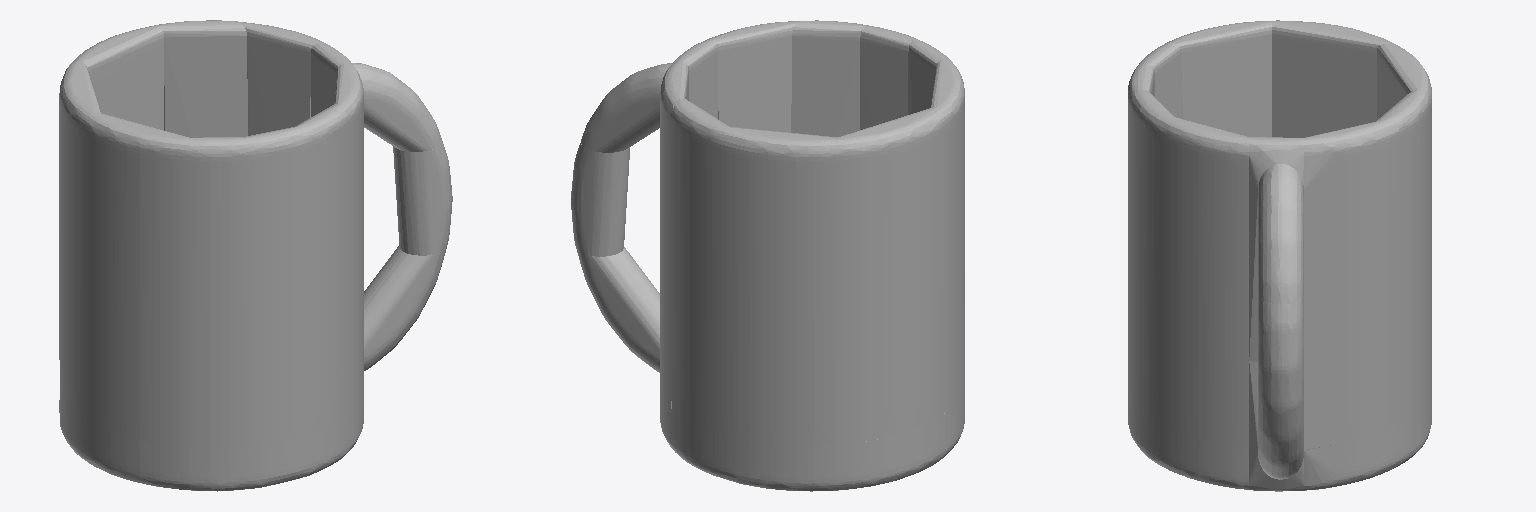
URDF robot description (root):
<robot name="root">
  <link name="object">
    <visual>
      <origin xyz="0 0 0" rpy="0 0 0"/>
      <geometry>
        <mesh filename="coacd_convex_piece_0.obj" scale="1.0000E+00 1.0000E+00 1.0000E+00"/>
      </geometry>
      <material name="">
        <color rgba="7.50E-01 7.50E-01 7.50E-01 1"/>
      </material>
    </visual>
    <collision>
      <origin xyz="0 0 0" rpy="0 0 0"/>
      <geometry>
        <mesh filename="coacd_convex_piece_0.obj" scale="1.0000E+00 1.0000E+00 1.0000E+00"/>
      </geometry>
    </collision>
    <visual>
      <origin xyz="0 0 0" rpy="0 0 0"/>
      <geometry>
        <mesh filename="coacd_convex_piece_1.obj" scale="1.0000E+00 1.0000E+00 1.0000E+00"/>
      </geometry>
      <material name="">
        <color rgba="7.50E-01 7.50E-01 7.50E-01 1"/>
      </material>
    </visual>
    <collision>
      <origin xyz="0 0 0" rpy="0 0 0"/>
      <geometry>
        <mesh filename="coacd_convex_piece_1.obj" scale="1.0000E+00 1.0000E+00 1.0000E+00"/>
      </geometry>
    </collision>
    <visual>
      <origin xyz="0 0 0" rpy="0 0 0"/>
      <geometry>
        <mesh filename="coacd_convex_piece_2.obj" scale="1.0000E+00 1.0000E+00 1.0000E+00"/>
      </geometry>
      <material name="">
        <color rgba="7.50E-01 7.50E-01 7.50E-01 1"/>
      </material>
    </visual>
    <collision>
      <origin xyz="0 0 0" rpy="0 0 0"/>
      <geometry>
        <mesh filename="coacd_convex_piece_2.obj" scale="1.0000E+00 1.0000E+00 1.0000E+00"/>
      </geometry>
    </collision>
    <visual>
      <origin xyz="0 0 0" rpy="0 0 0"/>
      <geometry>
        <mesh filename="coacd_convex_piece_3.obj" scale="1.0000E+00 1.0000E+00 1.0000E+00"/>
      </geometry>
      <material name="">
        <color rgba="7.50E-01 7.50E-01 7.50E-01 1"/>
      </material>
    </visual>
    <collision>
      <origin xyz="0 0 0" rpy="0 0 0"/>
      <geometry>
        <mesh filename="coacd_convex_piece_3.obj" scale="1.0000E+00 1.0000E+00 1.0000E+00"/>
      </geometry>
    </collision>
    <visual>
      <origin xyz="0 0 0" rpy="0 0 0"/>
      <geometry>
        <mesh filename="coacd_convex_piece_4.obj" scale="1.0000E+00 1.0000E+00 1.0000E+00"/>
      </geometry>
      <material name="">
        <color rgba="7.50E-01 7.50E-01 7.50E-01 1"/>
      </material>
    </visual>
    <collision>
      <origin xyz="0 0 0" rpy="0 0 0"/>
      <geometry>
        <mesh filename="coacd_convex_piece_4.obj" scale="1.0000E+00 1.0000E+00 1.0000E+00"/>
      </geometry>
    </collision>
    <visual>
      <origin xyz="0 0 0" rpy="0 0 0"/>
      <geometry>
        <mesh filename="coacd_convex_piece_5.obj" scale="1.0000E+00 1.0000E+00 1.0000E+00"/>
      </geometry>
      <material name="">
        <color rgba="7.50E-01 7.50E-01 7.50E-01 1"/>
      </material>
    </visual>
    <collision>
      <origin xyz="0 0 0" rpy="0 0 0"/>
      <geometry>
        <mesh filename="coacd_convex_piece_5.obj" scale="1.0000E+00 1.0000E+00 1.0000E+00"/>
      </geometry>
    </collision>
    <visual>
      <origin xyz="0 0 0" rpy="0 0 0"/>
      <geometry>
        <mesh filename="coacd_convex_piece_6.obj" scale="1.0000E+00 1.0000E+00 1.0000E+00"/>
      </geometry>
      <material name="">
        <color rgba="7.50E-01 7.50E-01 7.50E-01 1"/>
      </material>
    </visual>
    <collision>
      <origin xyz="0 0 0" rpy="0 0 0"/>
      <geometry>
        <mesh filename="coacd_convex_piece_6.obj" scale="1.0000E+00 1.0000E+00 1.0000E+00"/>
      </geometry>
    </collision>
    <visual>
      <origin xyz="0 0 0" rpy="0 0 0"/>
      <geometry>
        <mesh filename="coacd_convex_piece_7.obj" scale="1.0000E+00 1.0000E+00 1.0000E+00"/>
      </geometry>
      <material name="">
        <color rgba="7.50E-01 7.50E-01 7.50E-01 1"/>
      </material>
    </visual>
    <collision>
      <origin xyz="0 0 0" rpy="0 0 0"/>
      <geometry>
        <mesh filename="coacd_convex_piece_7.obj" scale="1.0000E+00 1.0000E+00 1.0000E+00"/>
      </geometry>
    </collision>
    <visual>
      <origin xyz="0 0 0" rpy="0 0 0"/>
      <geometry>
        <mesh filename="coacd_convex_piece_8.obj" scale="1.0000E+00 1.0000E+00 1.0000E+00"/>
      </geometry>
      <material name="">
        <color rgba="7.50E-01 7.50E-01 7.50E-01 1"/>
      </material>
    </visual>
    <collision>
      <origin xyz="0 0 0" rpy="0 0 0"/>
      <geometry>
        <mesh filename="coacd_convex_piece_8.obj" scale="1.0000E+00 1.0000E+00 1.0000E+00"/>
      </geometry>
    </collision>
    <visual>
      <origin xyz="0 0 0" rpy="0 0 0"/>
      <geometry>
        <mesh filename="coacd_convex_piece_9.obj" scale="1.0000E+00 1.0000E+00 1.0000E+00"/>
      </geometry>
      <material name="">
        <color rgba="7.50E-01 7.50E-01 7.50E-01 1"/>
      </material>
    </visual>
    <collision>
      <origin xyz="0 0 0" rpy="0 0 0"/>
      <geometry>
        <mesh filename="coacd_convex_piece_9.obj" scale="1.0000E+00 1.0000E+00 1.0000E+00"/>
      </geometry>
    </collision>
    <visual>
      <origin xyz="0 0 0" rpy="0 0 0"/>
      <geometry>
        <mesh filename="coacd_convex_piece_10.obj" scale="1.0000E+00 1.0000E+00 1.0000E+00"/>
      </geometry>
      <material name="">
        <color rgba="7.50E-01 7.50E-01 7.50E-01 1"/>
      </material>
    </visual>
    <collision>
      <origin xyz="0 0 0" rpy="0 0 0"/>
      <geometry>
        <mesh filename="coacd_convex_piece_10.obj" scale="1.0000E+00 1.0000E+00 1.0000E+00"/>
      </geometry>
    </collision>
    <visual>
      <origin xyz="0 0 0" rpy="0 0 0"/>
      <geometry>
        <mesh filename="coacd_convex_piece_11.obj" scale="1.0000E+00 1.0000E+00 1.0000E+00"/>
      </geometry>
      <material name="">
        <color rgba="7.50E-01 7.50E-01 7.50E-01 1"/>
      </material>
    </visual>
    <collision>
      <origin xyz="0 0 0" rpy="0 0 0"/>
      <geometry>
        <mesh filename="coacd_convex_piece_11.obj" scale="1.0000E+00 1.0000E+00 1.0000E+00"/>
      </geometry>
    </collision>
    <visual>
      <origin xyz="0 0 0" rpy="0 0 0"/>
      <geometry>
        <mesh filename="coacd_convex_piece_12.obj" scale="1.0000E+00 1.0000E+00 1.0000E+00"/>
      </geometry>
      <material name="">
        <color rgba="7.50E-01 7.50E-01 7.50E-01 1"/>
      </material>
    </visual>
    <collision>
      <origin xyz="0 0 0" rpy="0 0 0"/>
      <geometry>
        <mesh filename="coacd_convex_piece_12.obj" scale="1.0000E+00 1.0000E+00 1.0000E+00"/>
      </geometry>
    </collision>
    <visual>
      <origin xyz="0 0 0" rpy="0 0 0"/>
      <geometry>
        <mesh filename="coacd_convex_piece_13.obj" scale="1.0000E+00 1.0000E+00 1.0000E+00"/>
      </geometry>
      <material name="">
        <color rgba="7.50E-01 7.50E-01 7.50E-01 1"/>
      </material>
    </visual>
    <collision>
      <origin xyz="0 0 0" rpy="0 0 0"/>
      <geometry>
        <mesh filename="coacd_convex_piece_13.obj" scale="1.0000E+00 1.0000E+00 1.0000E+00"/>
      </geometry>
    </collision>
    <visual>
      <origin xyz="0 0 0" rpy="0 0 0"/>
      <geometry>
        <mesh filename="coacd_convex_piece_14.obj" scale="1.0000E+00 1.0000E+00 1.0000E+00"/>
      </geometry>
      <material name="">
        <color rgba="7.50E-01 7.50E-01 7.50E-01 1"/>
      </material>
    </visual>
    <collision>
      <origin xyz="0 0 0" rpy="0 0 0"/>
      <geometry>
        <mesh filename="coacd_convex_piece_14.obj" scale="1.0000E+00 1.0000E+00 1.0000E+00"/>
      </geometry>
    </collision>
    <visual>
      <origin xyz="0 0 0" rpy="0 0 0"/>
      <geometry>
        <mesh filename="coacd_convex_piece_15.obj" scale="1.0000E+00 1.0000E+00 1.0000E+00"/>
      </geometry>
      <material name="">
        <color rgba="7.50E-01 7.50E-01 7.50E-01 1"/>
      </material>
    </visual>
    <collision>
      <origin xyz="0 0 0" rpy="0 0 0"/>
      <geometry>
        <mesh filename="coacd_convex_piece_15.obj" scale="1.0000E+00 1.0000E+00 1.0000E+00"/>
      </geometry>
    </collision>
    <visual>
      <origin xyz="0 0 0" rpy="0 0 0"/>
      <geometry>
        <mesh filename="coacd_convex_piece_16.obj" scale="1.0000E+00 1.0000E+00 1.0000E+00"/>
      </geometry>
      <material name="">
        <color rgba="7.50E-01 7.50E-01 7.50E-01 1"/>
      </material>
    </visual>
    <collision>
      <origin xyz="0 0 0" rpy="0 0 0"/>
      <geometry>
        <mesh filename="coacd_convex_piece_16.obj" scale="1.0000E+00 1.0000E+00 1.0000E+00"/>
      </geometry>
    </collision>
    <visual>
      <origin xyz="0 0 0" rpy="0 0 0"/>
      <geometry>
        <mesh filename="coacd_convex_piece_17.obj" scale="1.0000E+00 1.0000E+00 1.0000E+00"/>
      </geometry>
      <material name="">
        <color rgba="7.50E-01 7.50E-01 7.50E-01 1"/>
      </material>
    </visual>
    <collision>
      <origin xyz="0 0 0" rpy="0 0 0"/>
      <geometry>
        <mesh filename="coacd_convex_piece_17.obj" scale="1.0000E+00 1.0000E+00 1.0000E+00"/>
      </geometry>
    </collision>
  </link>
</robot>

--- Render facts (derived) ---
Views: 3 orthographic renders of the robot side by side, from view 1: azimuth 30°, elevation 25°; view 2: azimuth 150°, elevation 25°; view 3: azimuth 270°, elevation 25°.
Robot: root — 1 links, 0 joints (none); root link object; default pose: all joints at 0.
Visible links, largest first — view 1: object; view 2: object; view 3: object.
Boxes of the visible links, x1,y1,x2,y2 form: object: (59,20,452,491); object: (571,20,964,491); object: (1128,20,1431,491).
Size in the robot's own frame: 0.1171 by 0.0835 by 0.106 metres.
Meshes: 18 distinct files referenced, 18 mesh visuals loaded (18 OBJ).
